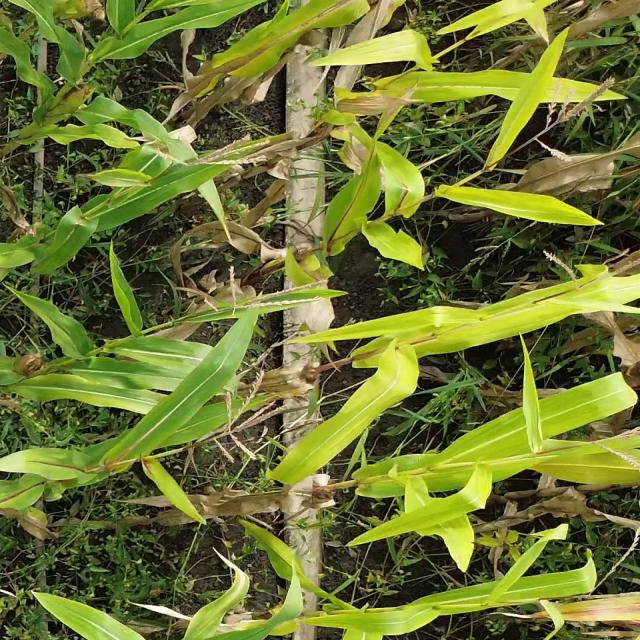gray-leaf-spot: (81, 363, 165, 416)
northern-leaf-blight: (196, 0, 354, 102), (510, 570, 640, 631)
